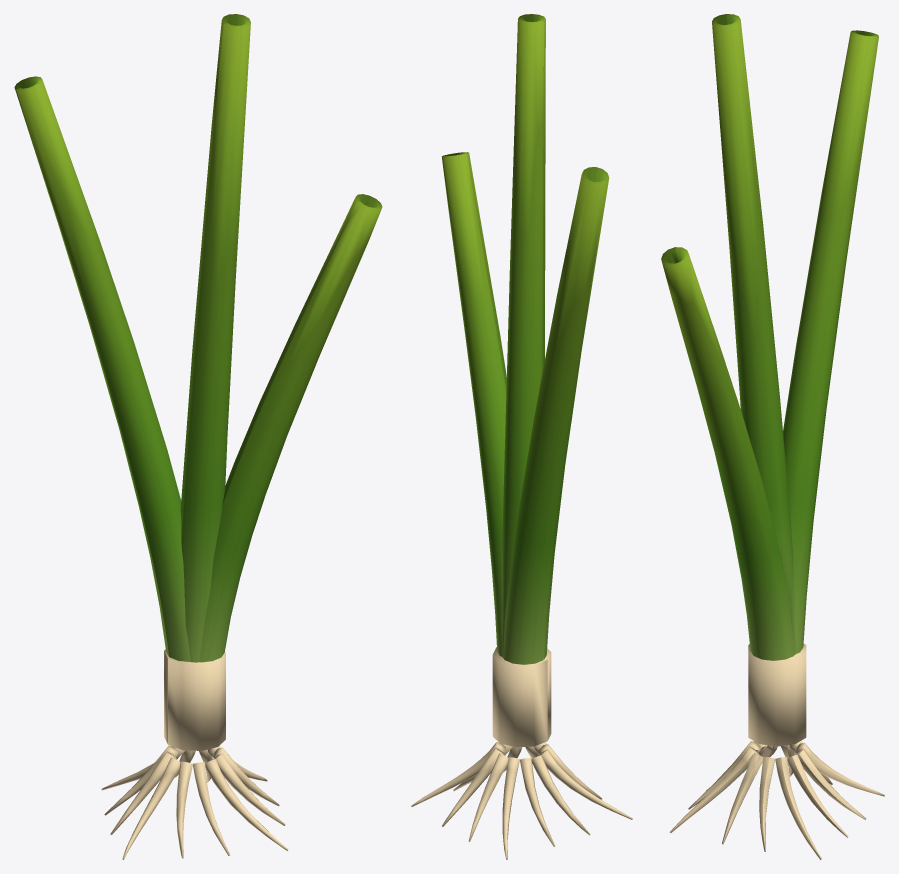
Rendered from NP_Onion_Young_LOD1.fbx.
3 renders of one model, left to right at view 1: azimuth 30°, elevation 25°; view 2: azimuth 150°, elevation 25°; view 3: azimuth 270°, elevation 25°, orthographic. The views are drawn at different scales.
Parts seen in each view (by area): view 1: NP_Onion_Young; view 2: NP_Onion_Young; view 3: NP_Onion_Young.
Boxes of the visible parts, x1,y1,x2,y2 form: NP_Onion_Young: [14, 14, 382, 859]; NP_Onion_Young: [411, 14, 632, 859]; NP_Onion_Young: [661, 14, 884, 859].
Size of the model in its own units: 20.91 by 60.74 by 15.34.
